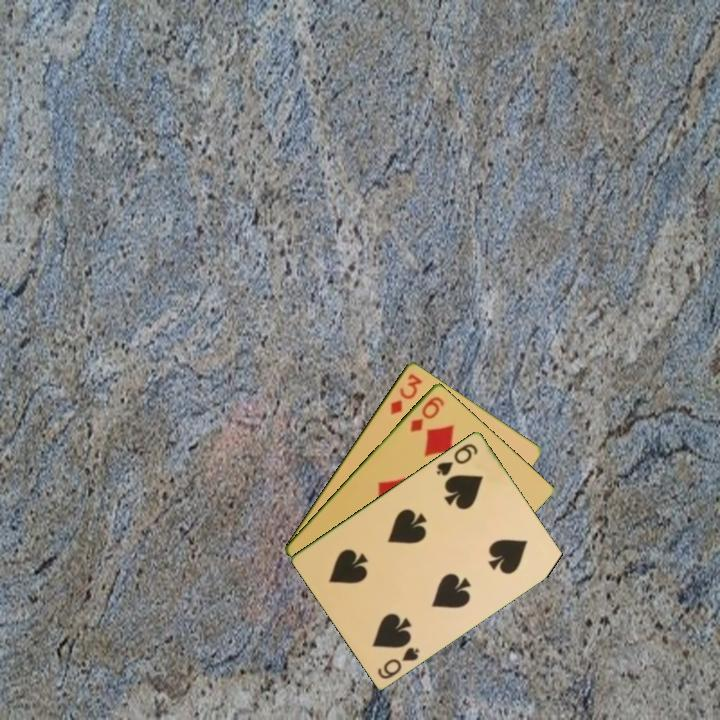3d: (386, 369, 425, 418)
6d: (406, 392, 447, 435)
6s: (433, 439, 481, 478), (374, 643, 422, 682)
